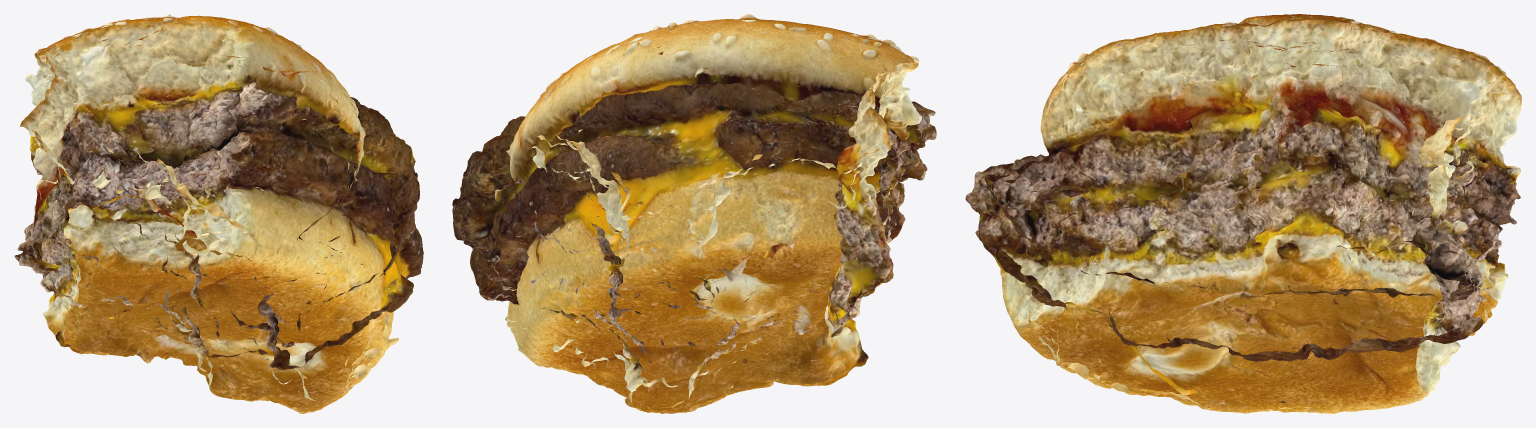
File: burger_Compressed-Ultimate.glb
3 renders of one model, left to right at view 1: azimuth 30°, elevation 25°; view 2: azimuth 150°, elevation 25°; view 3: azimuth 270°, elevation 25°, orthographic. The views are drawn at different scales.
Parts seen in each view (by area): view 1: Object_4; view 2: Object_4; view 3: Object_4.
Boxes of the visible parts, <box> form: Object_4: <box>14,14,423,413</box>; Object_4: <box>452,14,936,413</box>; Object_4: <box>965,14,1521,413</box>.
Size of the model in its own units: 0.594 by 0.429 by 0.7402.
1 material, 1 textured.
